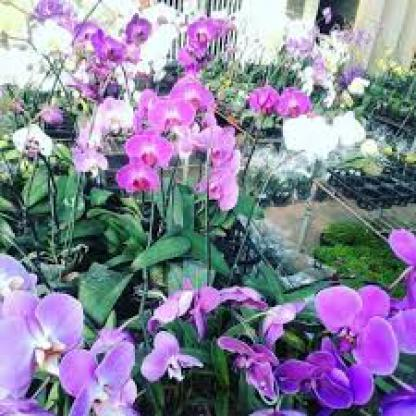ANGGREK: (10, 38, 402, 389)
